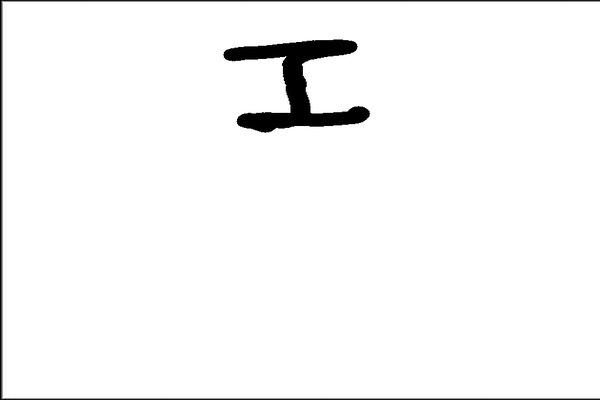i: (213, 36, 385, 131)
